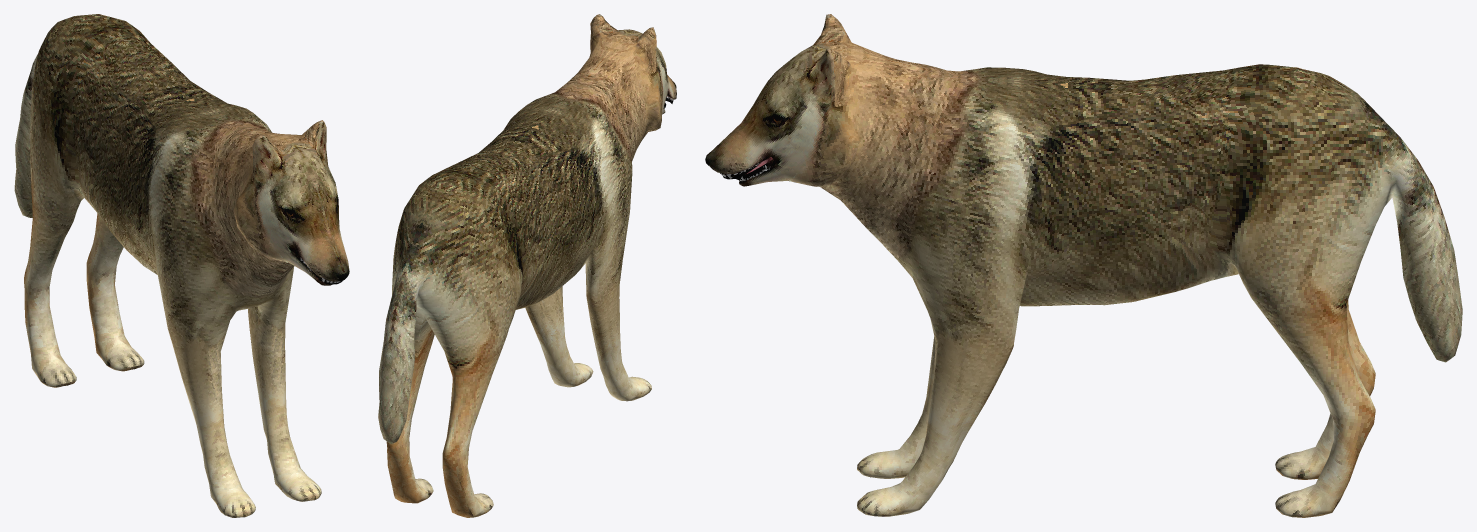
Rendered from natural-wolf-clear.glb.
The picture shows the model from 3 angles, left to right: view 1: azimuth 30°, elevation 25°; view 2: azimuth 150°, elevation 25°; view 3: azimuth 270°, elevation 25°; orthographic projection. The views are drawn at different scales.
Visible parts, largest first — view 1: natural-wolf-clear runtime mesh; view 2: natural-wolf-clear runtime mesh; view 3: natural-wolf-clear runtime mesh.
Part boxes in pixels (bbox=[...]): natural-wolf-clear runtime mesh: bbox=[14, 14, 349, 517]; natural-wolf-clear runtime mesh: bbox=[378, 14, 676, 517]; natural-wolf-clear runtime mesh: bbox=[705, 14, 1462, 517].
Bounding box in the file's own units: 0.318 × 0.96 × 1.43.
1 material, 1 textured.
